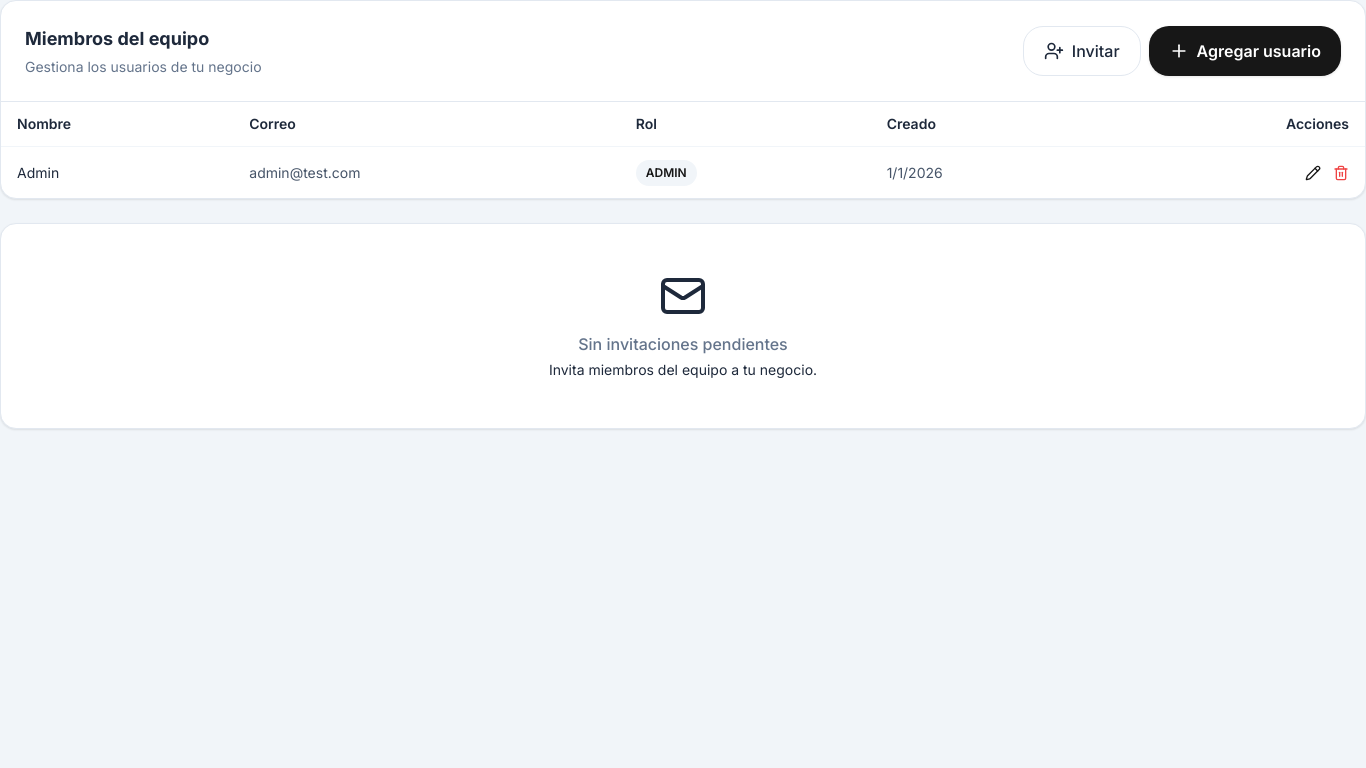
it: UsersContainer › opens the invite modal when Invite is clicked
Click the button "Invitar".
click(1082, 51)  # box [1023, 26, 1141, 76]
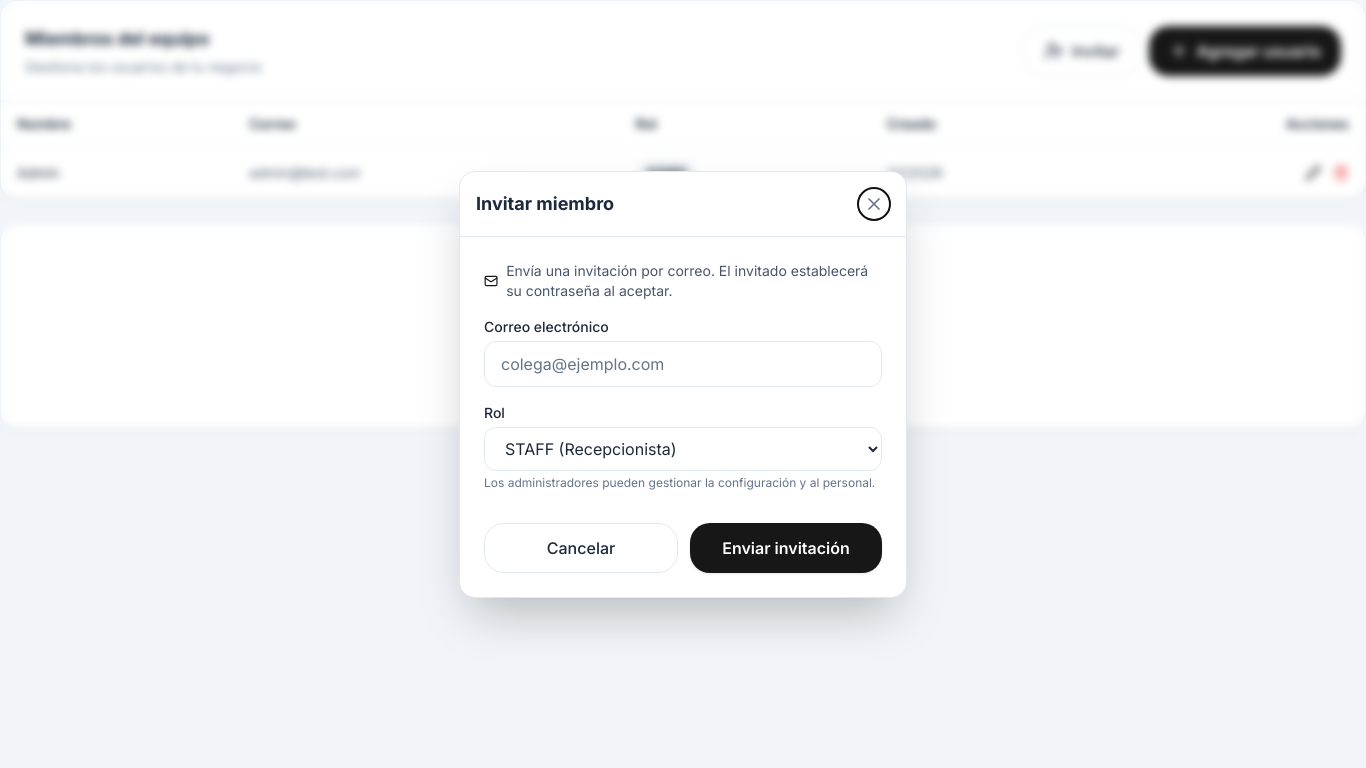
Now the heading "Invitar miembro" is shown, box [476, 190, 614, 218]
